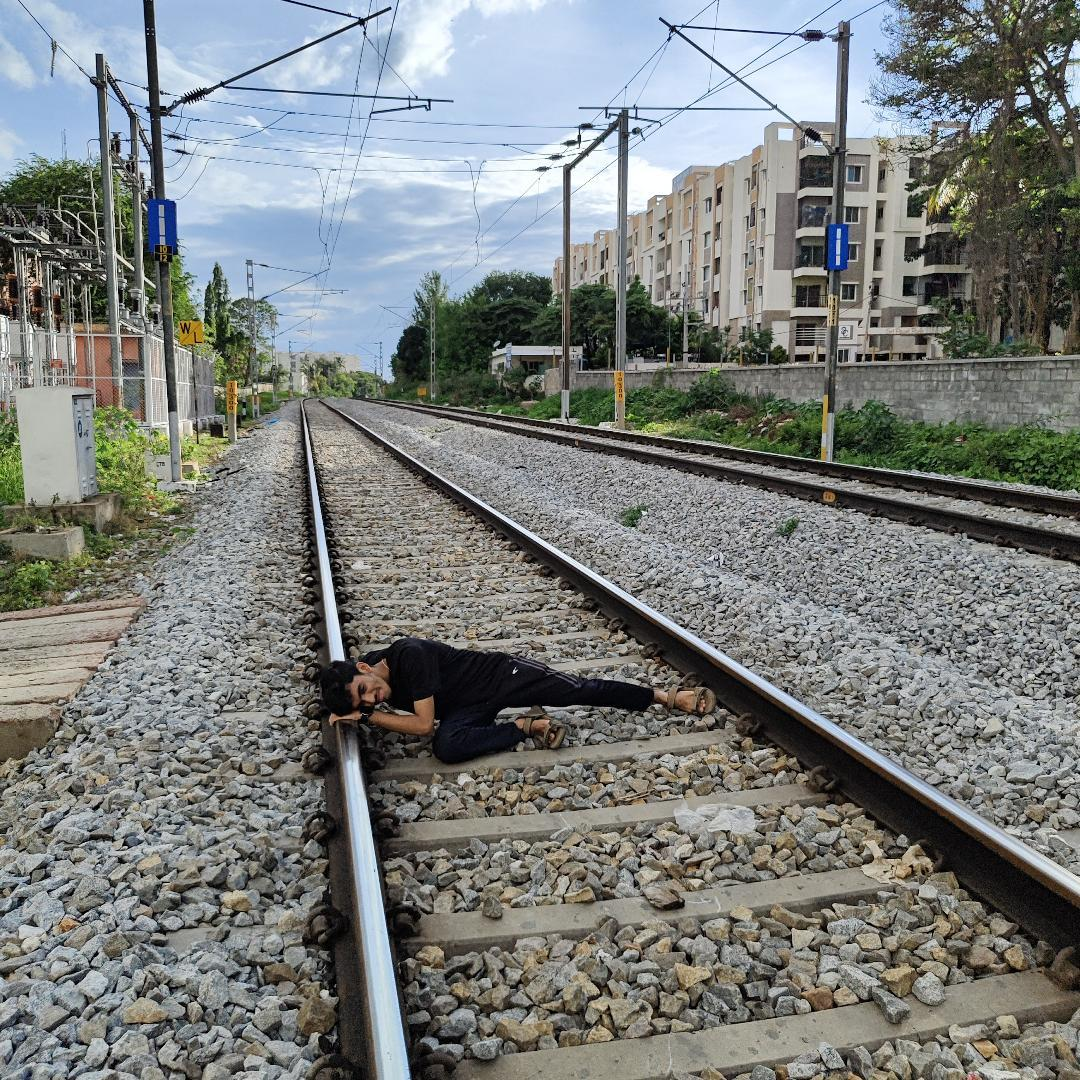sleeping: (311, 626, 731, 768)
